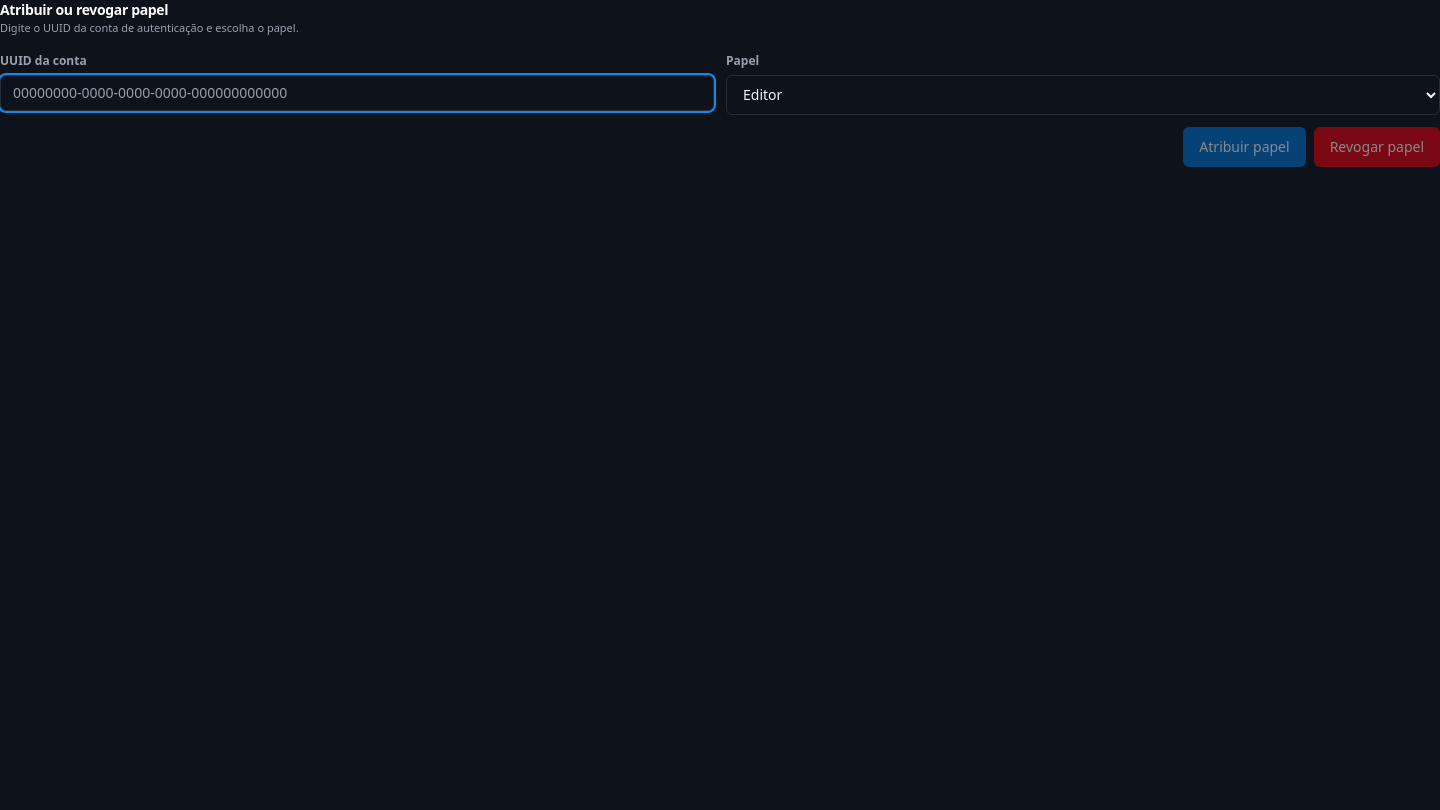
Test case: Confirmação operacional › confirma Atribuir papel, fecha e atualiza o Server Component
Type " ABCDEFAB-1234-1234-1234-ABCDEFABCDEF " into the field labelled "UUID da conta" at point(357, 92), box x1=0 y1=74 x2=714 y2=110
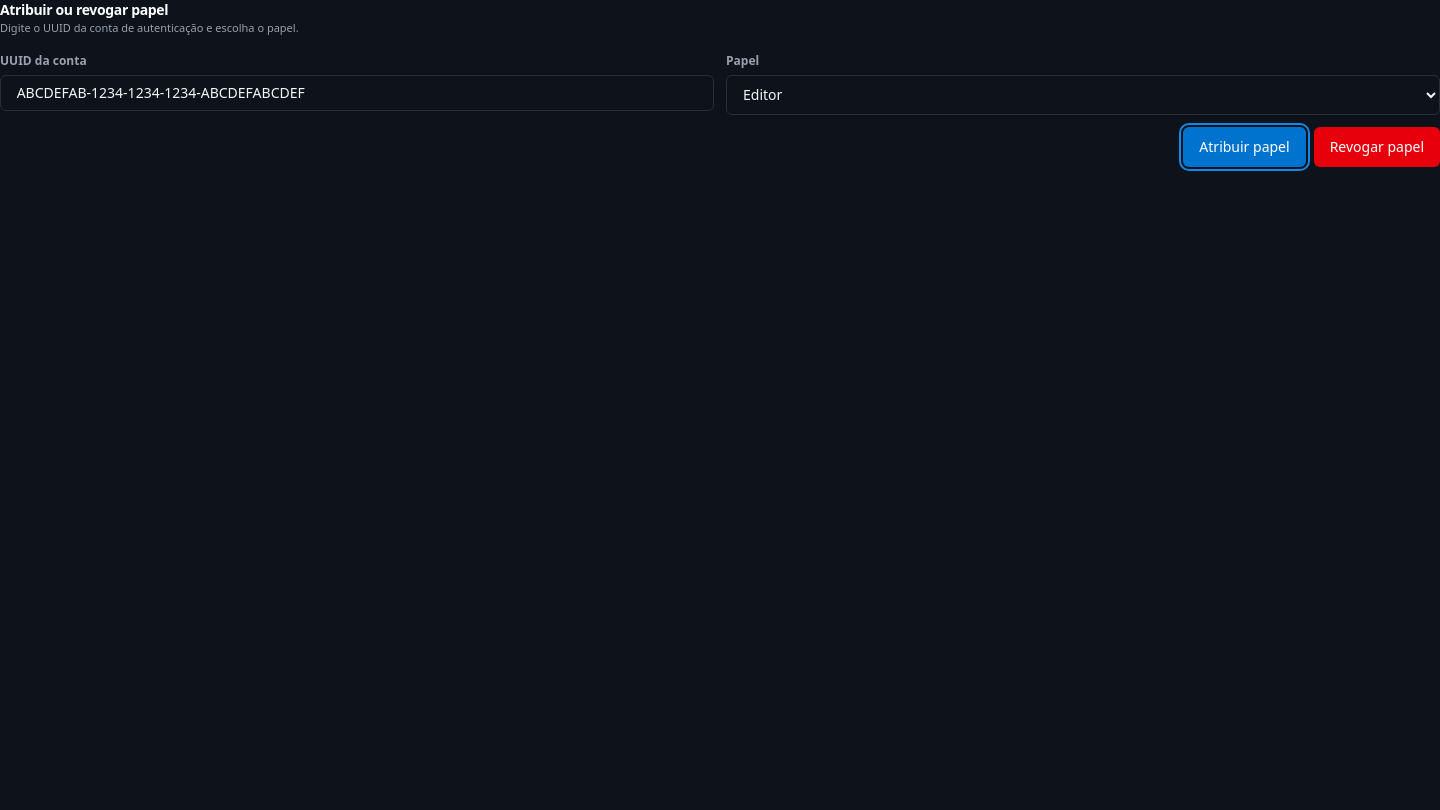
Click the button "Atribuir papel" at point(1244, 146), box x1=1183 y1=126 x2=1306 y2=166
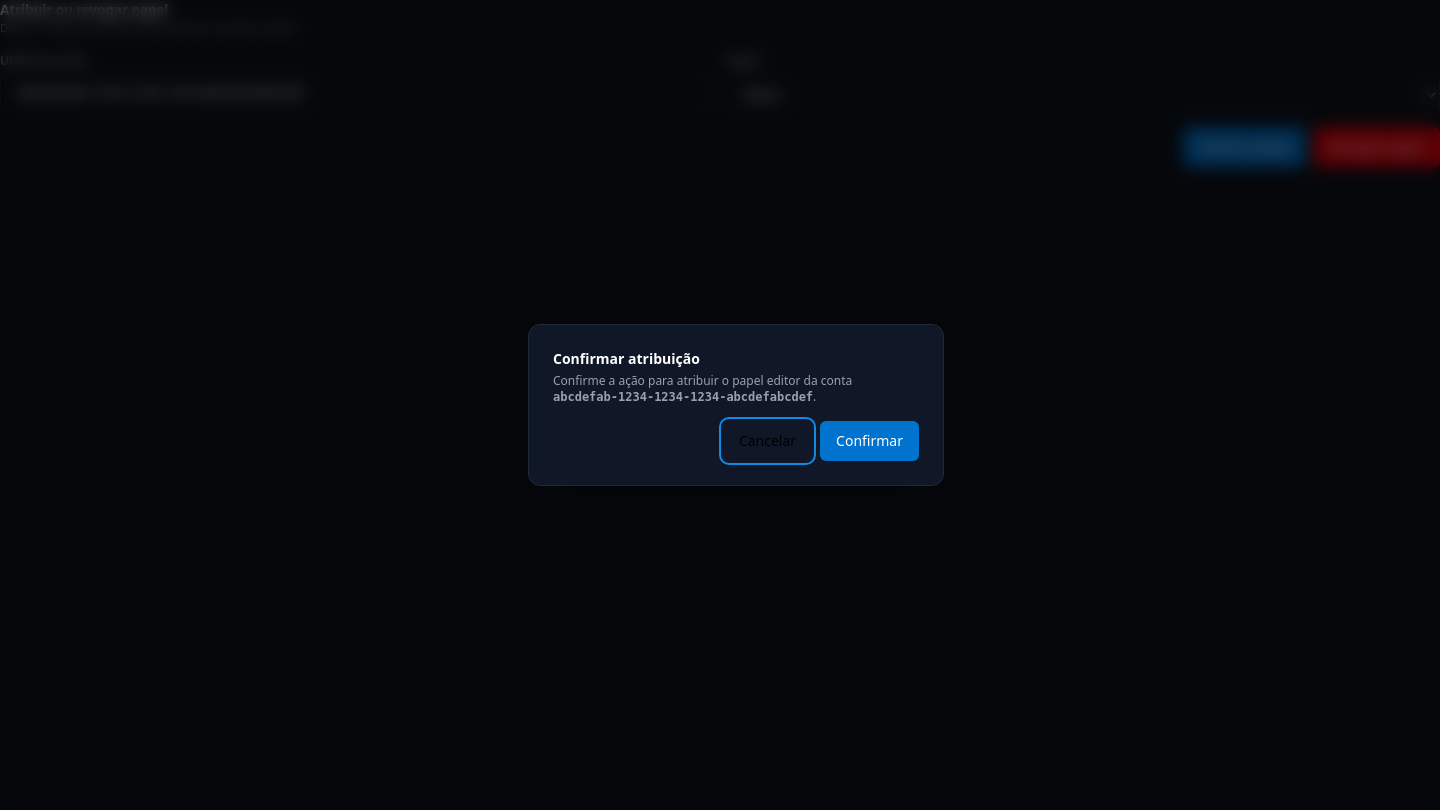
Click the button "Confirmar" at point(870, 441), box x1=820 y1=421 x2=919 y2=461
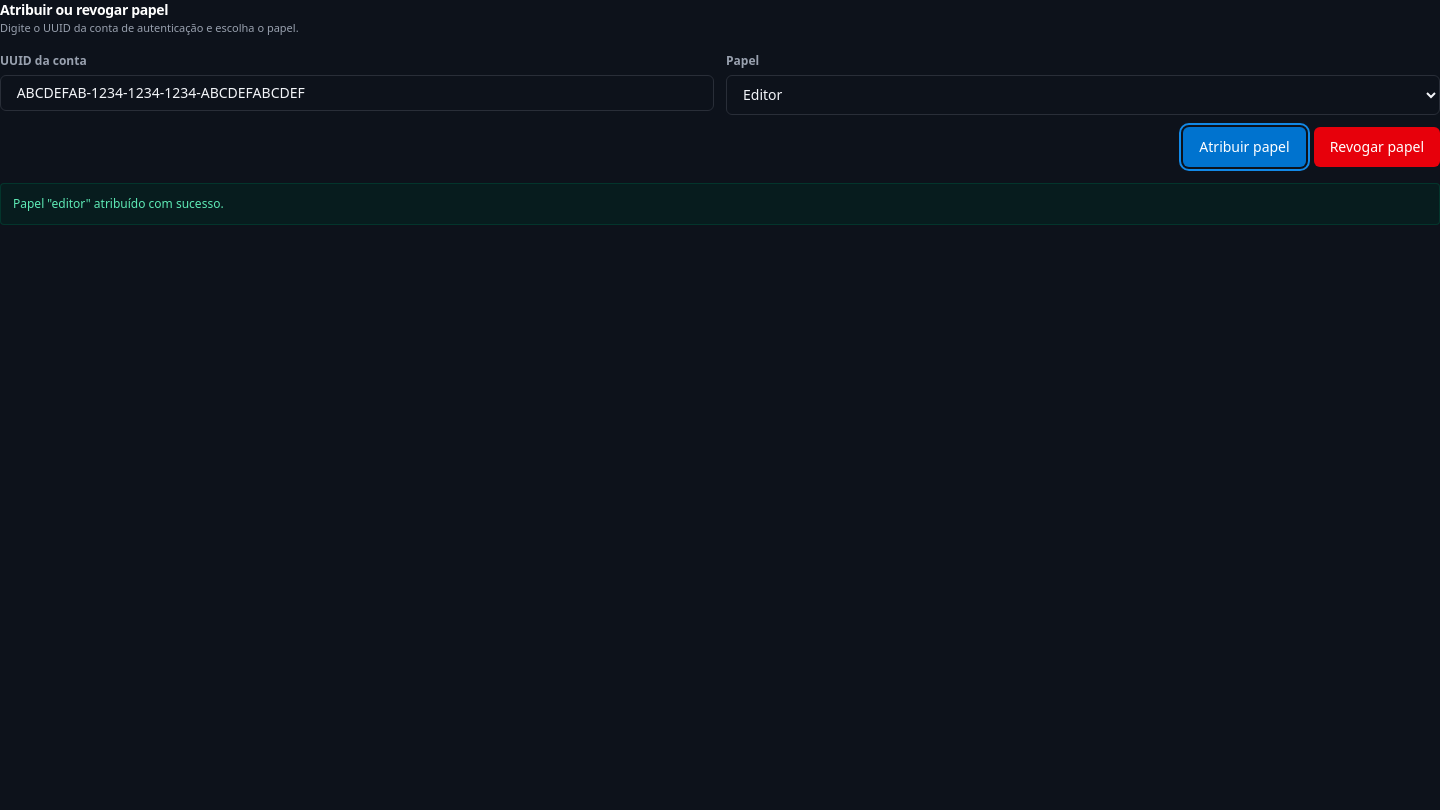
Expected: the dialog is gone
